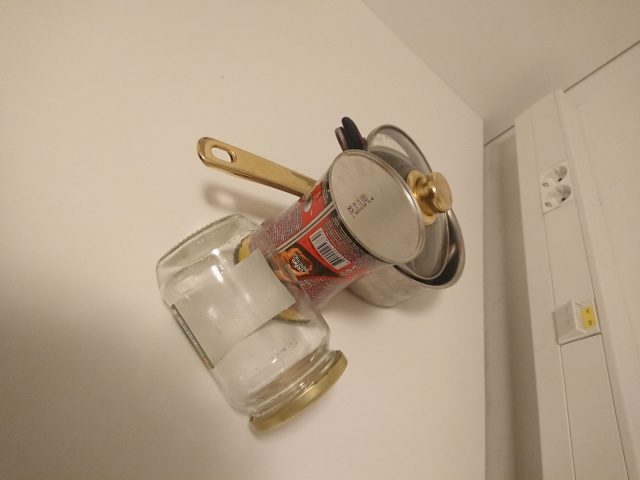Nescafe Classic 225g: (229, 145, 429, 329)
